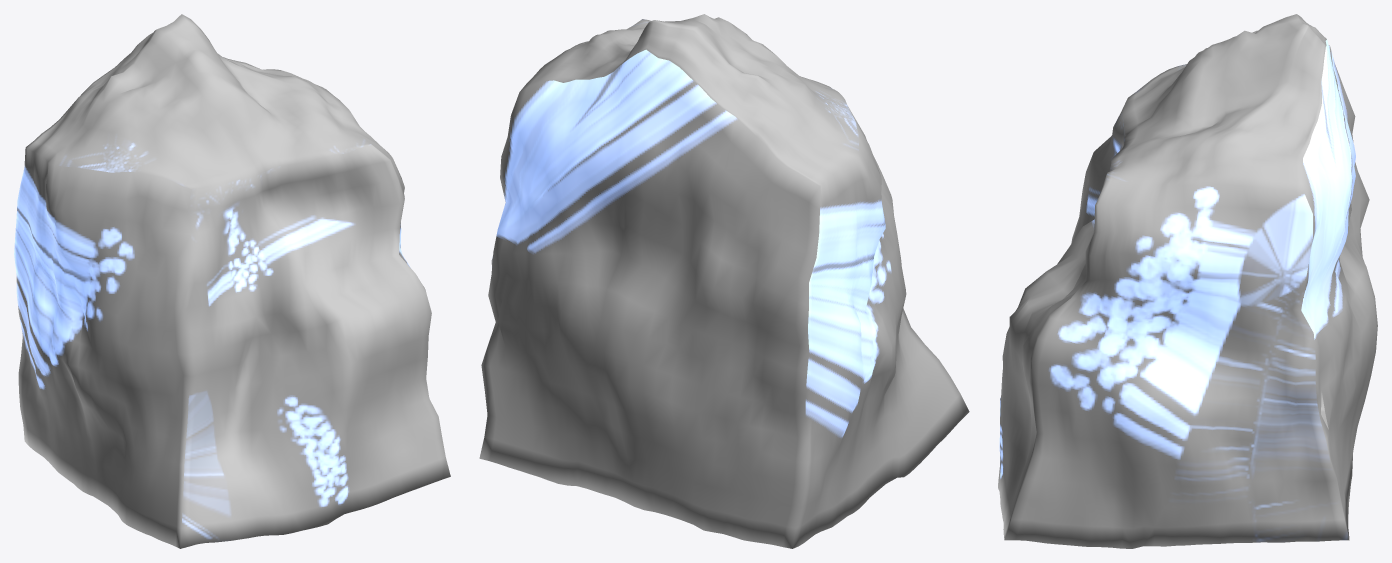
The model's file is SM_Rock_03.fbx.
The picture shows the model from 3 angles, left to right: view 1: azimuth 30°, elevation 25°; view 2: azimuth 150°, elevation 25°; view 3: azimuth 270°, elevation 25°; orthographic projection. The views are drawn at different scales.
Parts seen in each view (by area): view 1: SM_Rock_03; view 2: SM_Rock_03; view 3: SM_Rock_03.
Part boxes in pixels (x1,y1,x2,y2): SM_Rock_03: [14, 14, 450, 548]; SM_Rock_03: [479, 14, 969, 548]; SM_Rock_03: [998, 14, 1377, 548].
Bounding box in the file's own units: 240 × 221 × 304.
